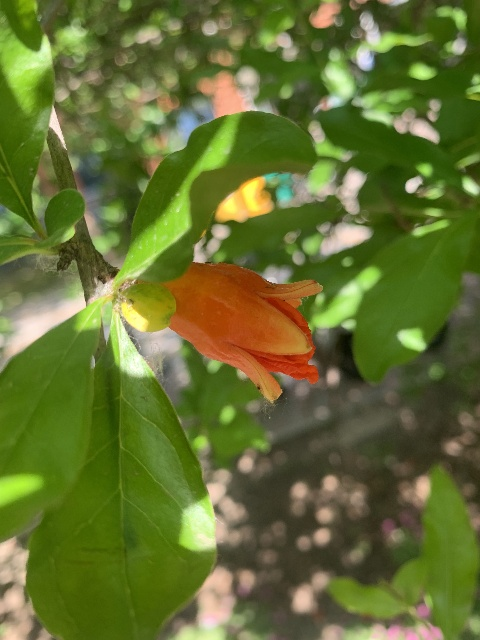flower: (129, 261, 324, 401)
